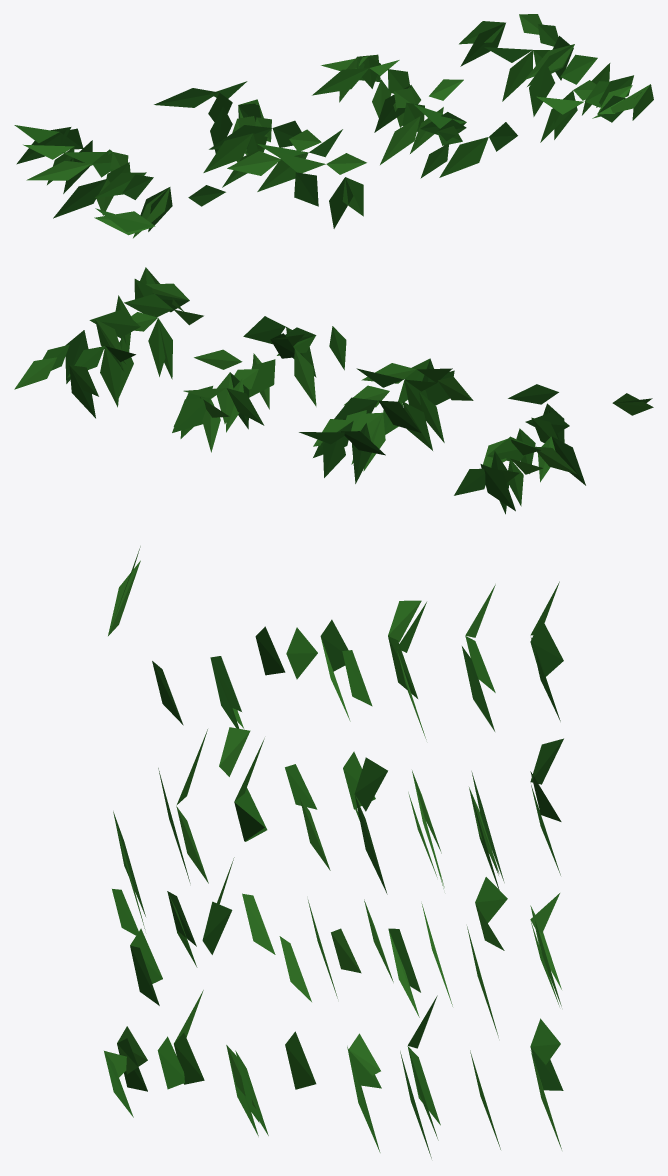
3 views of the same model, one above another, from view 1: azimuth 30°, elevation 25°; view 2: azimuth 150°, elevation 25°; view 3: azimuth 270°, elevation 25° (orthographic). The views are drawn at different scales.
Visible parts, largest first — view 1: r21c5_l01; view 2: r21c5_l01; view 3: r21c5_l01.
Boxes of the visible parts, bbox=[...] form: r21c5_l01: bbox=[14, 14, 653, 238]; r21c5_l01: bbox=[14, 267, 653, 514]; r21c5_l01: bbox=[104, 546, 563, 1158].
Size of the model in its own units: 1.74 by 0.2448 by 0.6482.
